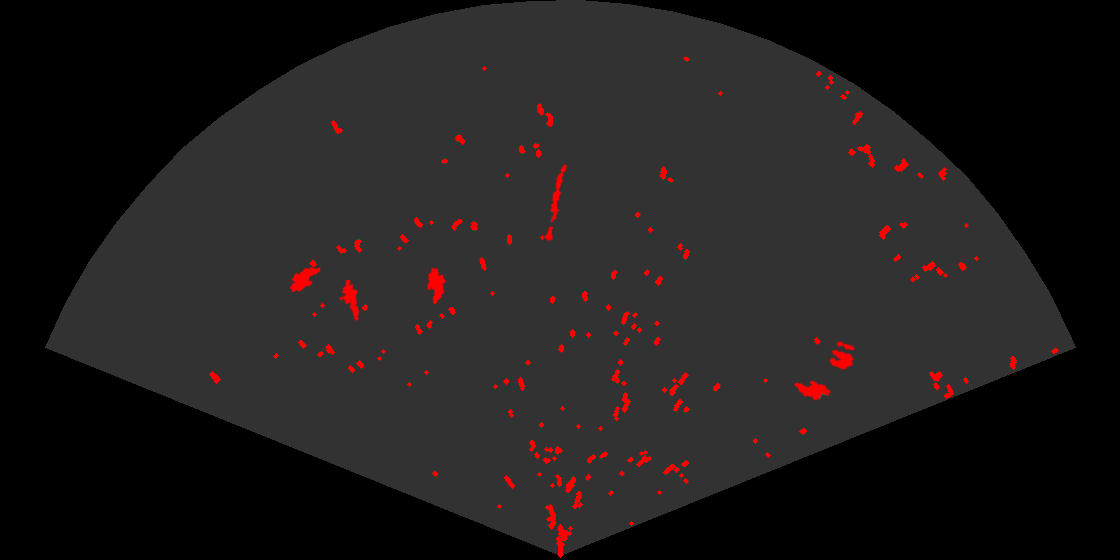AUV: (288, 265, 323, 294), (792, 379, 833, 402), (425, 266, 447, 306)
ball: (827, 339, 856, 372)
chain: (543, 162, 568, 242)
frogman: (339, 280, 361, 321)
